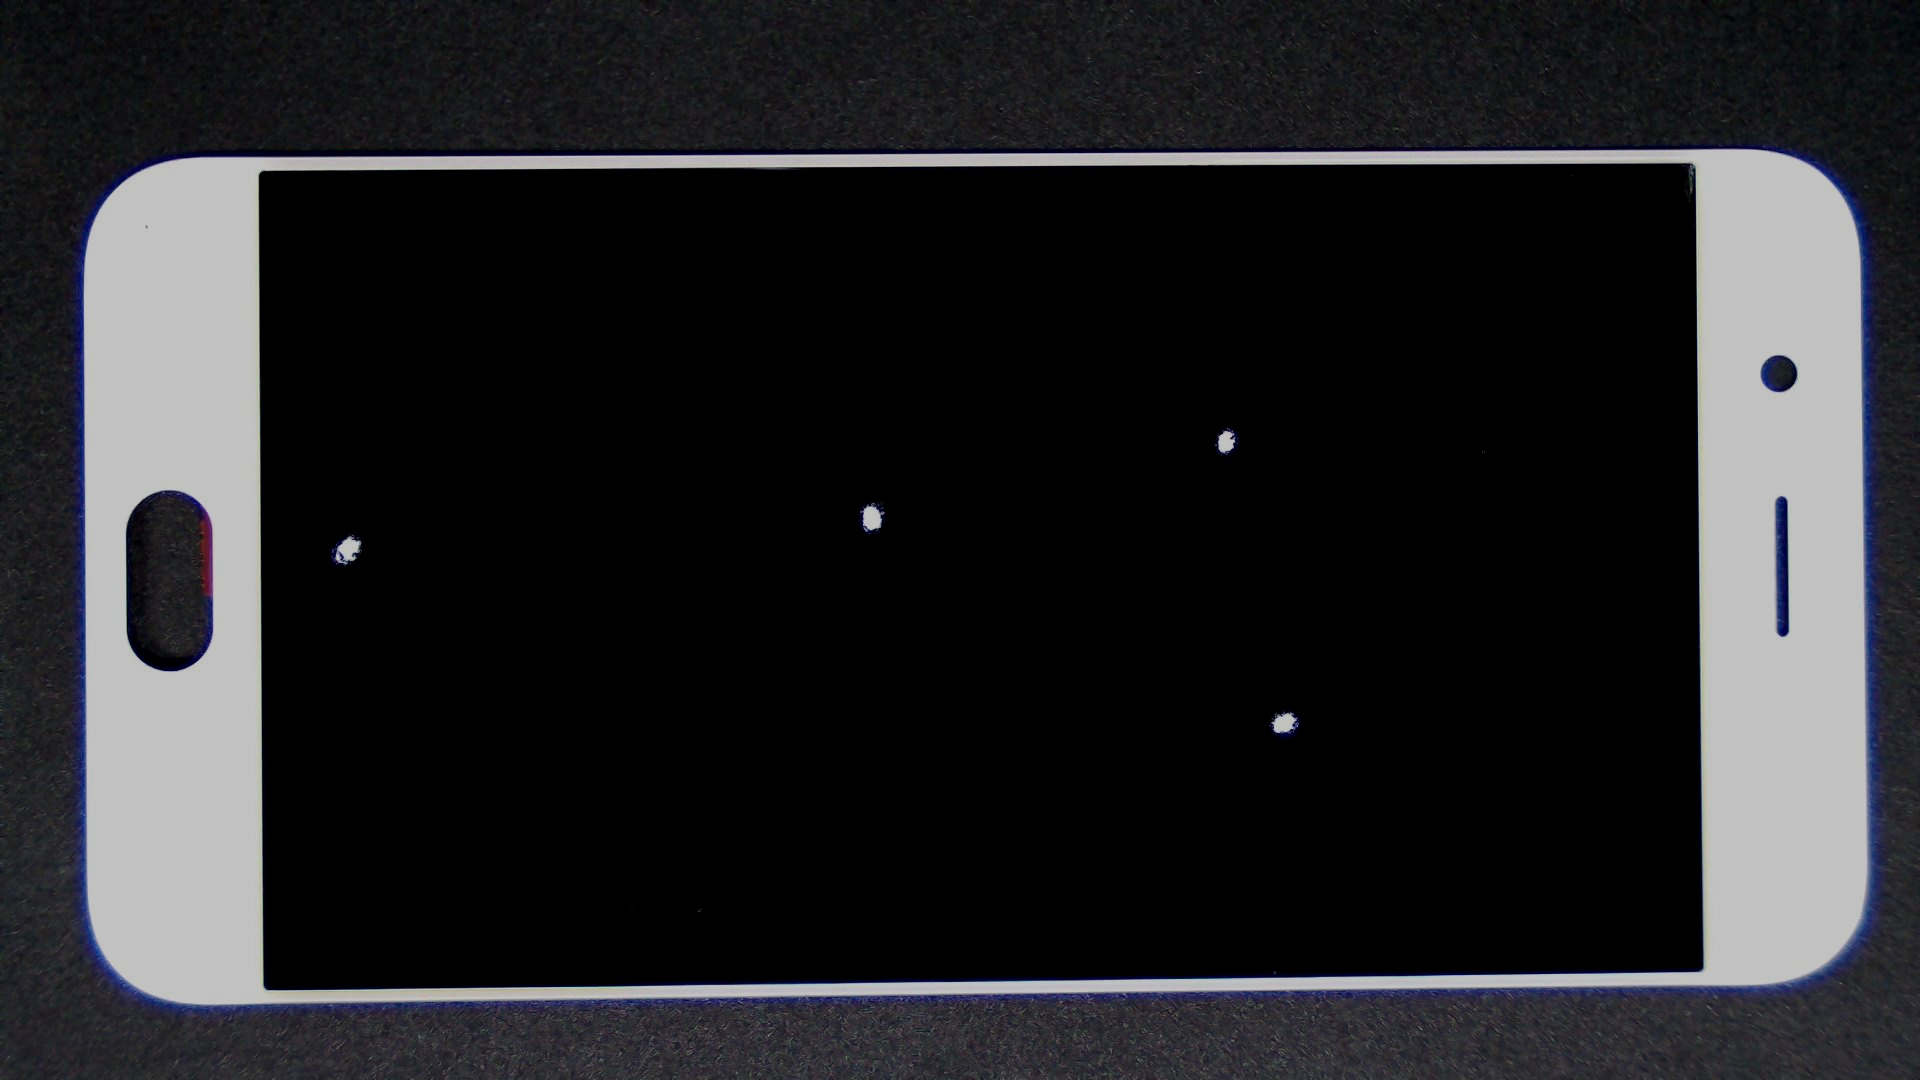oil: (642, 353, 1920, 1063), (613, 212, 1837, 640), (436, 249, 1309, 749), (175, 265, 525, 799)
